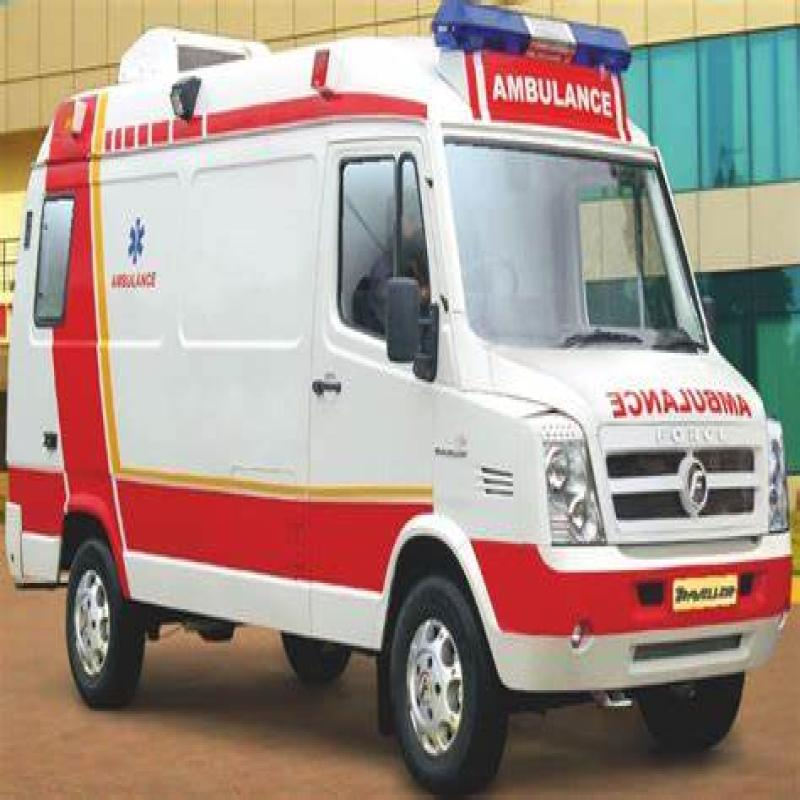AmbulanceSiren: (420, 0, 639, 97)
